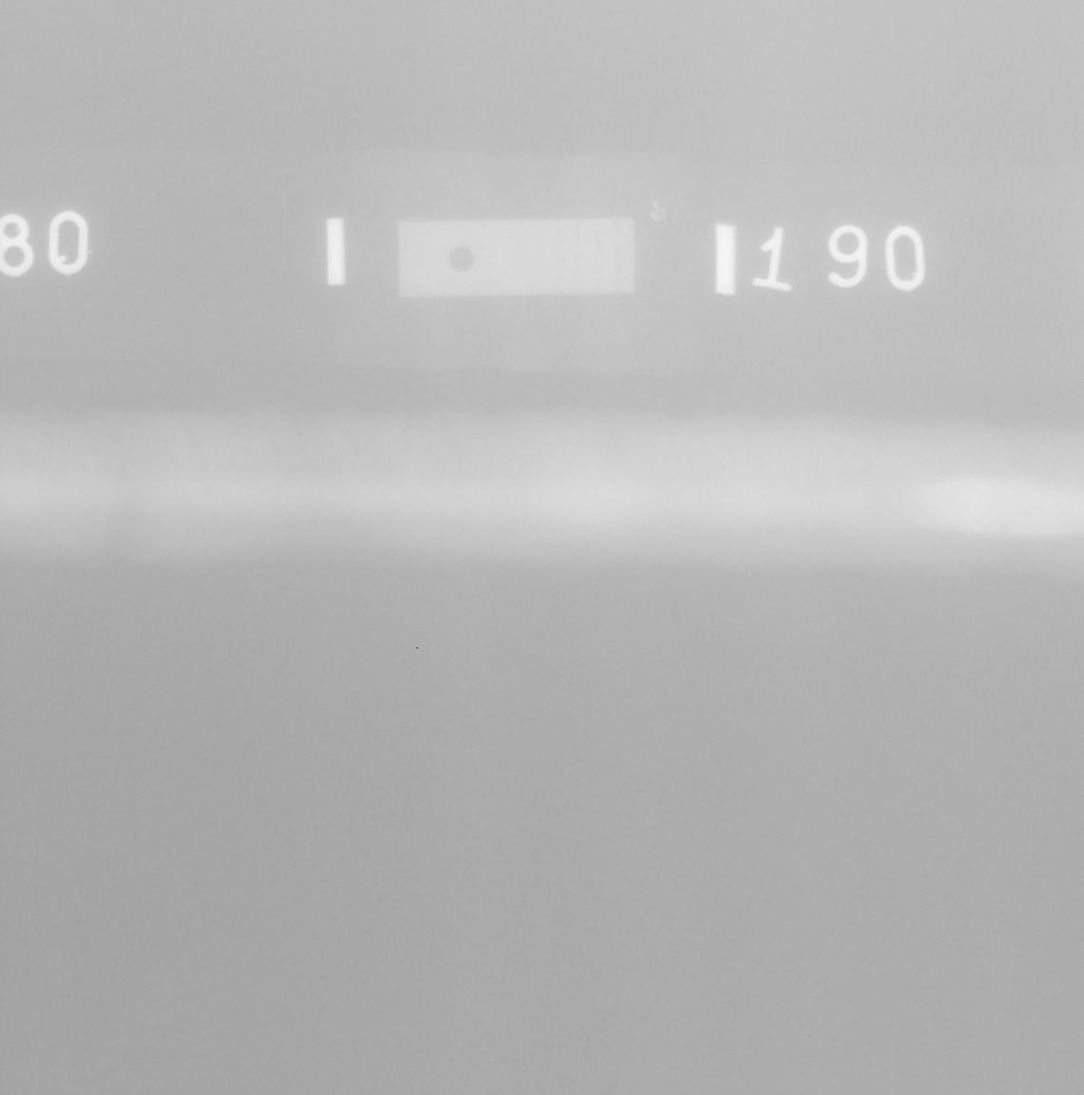Pore/Porosity: (1021, 511, 1038, 517)
Reference Standard 1: (397, 217, 637, 299)
